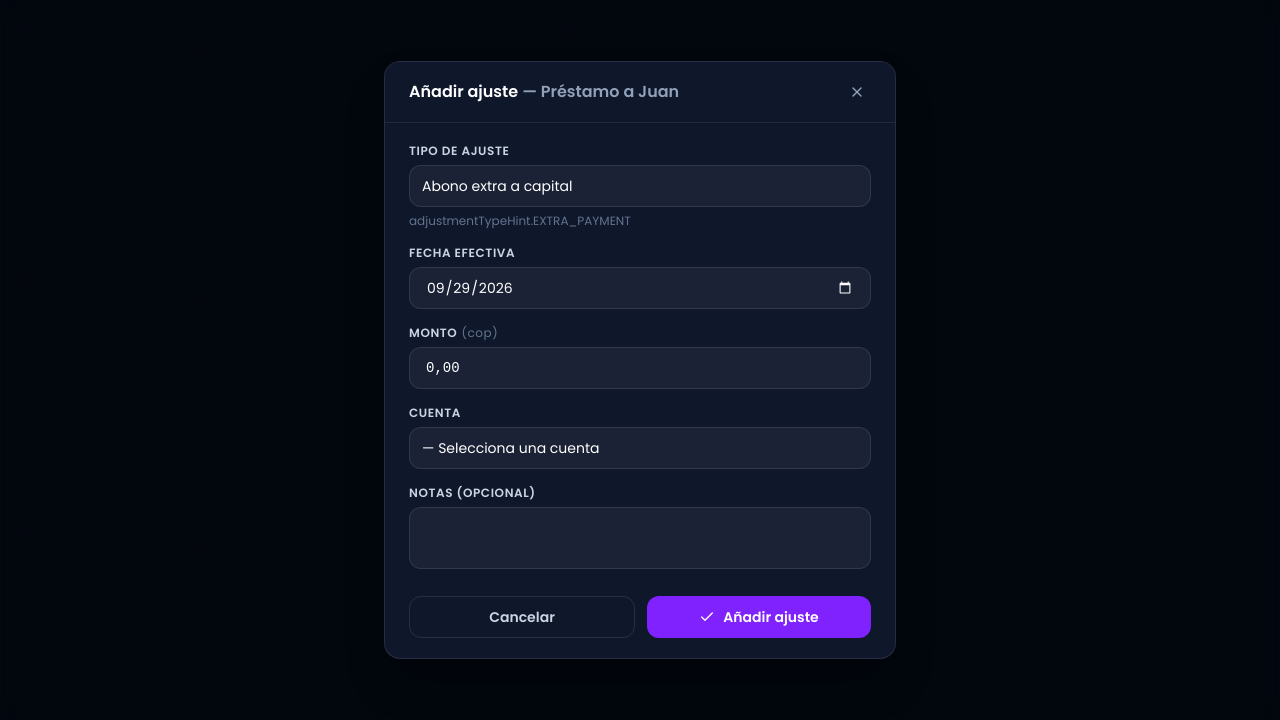
Test: AddAdjustmentModal › valida el monto requerido para EXTRA_PAYMENT
Check: the date field labelled "Fecha efectiva" is not empty, box left=409, top=267, right=871, bottom=309
Click the submit button. click: {"x": 759, "y": 617}
box: left=647, top=596, right=871, bottom=638
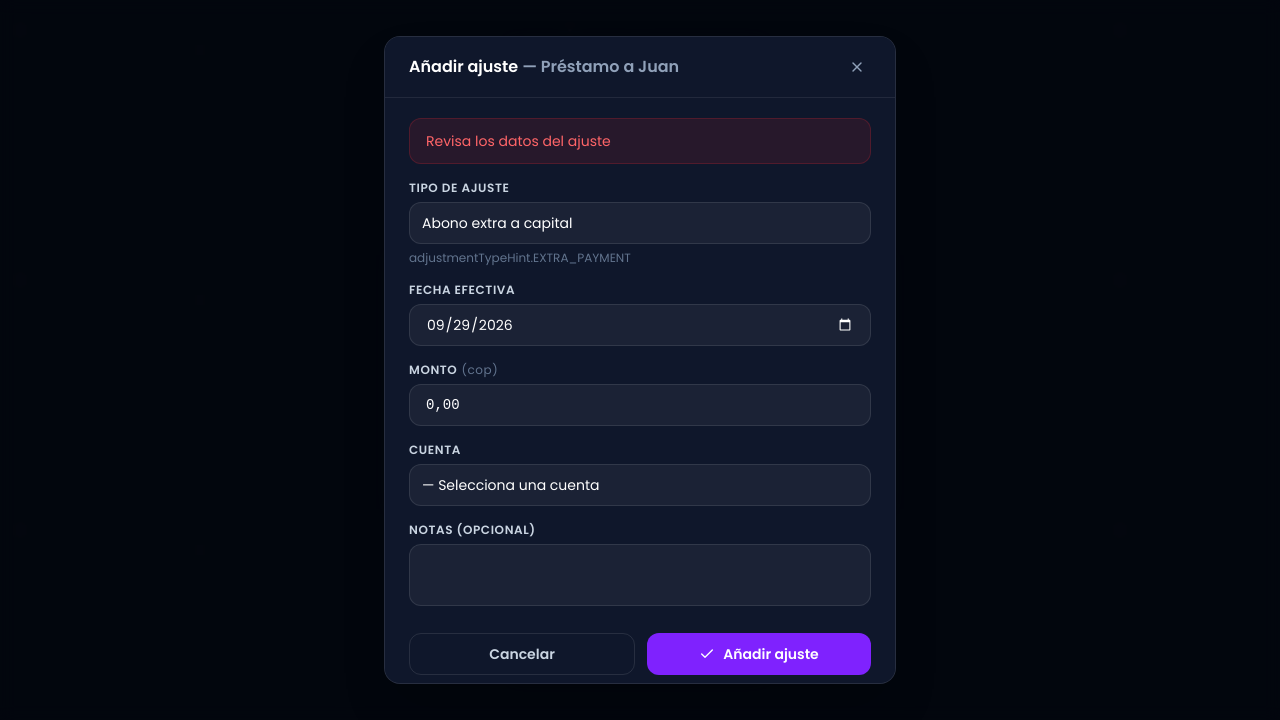
Check: the message reads "Revisa los datos del ajuste", box left=426, top=131, right=611, bottom=151
